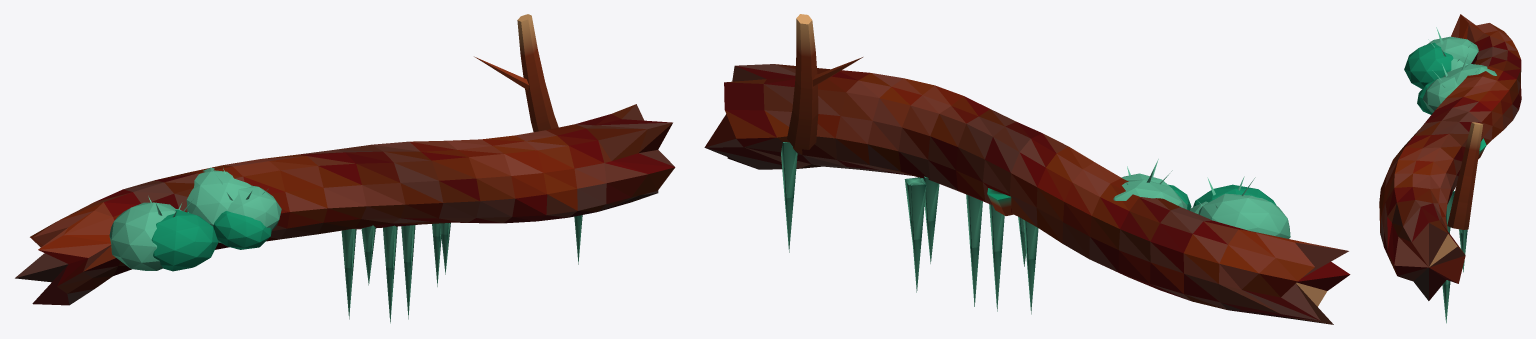
File: pohon_tumbang_bridge_redwood_788358.glb
3 views of the same model, side by side, from view 1: azimuth 30°, elevation 25°; view 2: azimuth 150°, elevation 25°; view 3: azimuth 270°, elevation 25° (orthographic). The views are drawn at different scales.
Visible parts, largest first — view 1: Batang_Melintang_Sungai; view 2: Batang_Melintang_Sungai; view 3: Batang_Melintang_Sungai.
Boxes of the visible parts, left/top/right/bottom form: Batang_Melintang_Sungai: left=15, top=14, right=675, bottom=323; Batang_Melintang_Sungai: left=704, top=14, right=1350, bottom=324; Batang_Melintang_Sungai: left=1379, top=14, right=1521, bottom=323.
Bounding box in the file's own units: 7.46 × 3 × 1.95.
